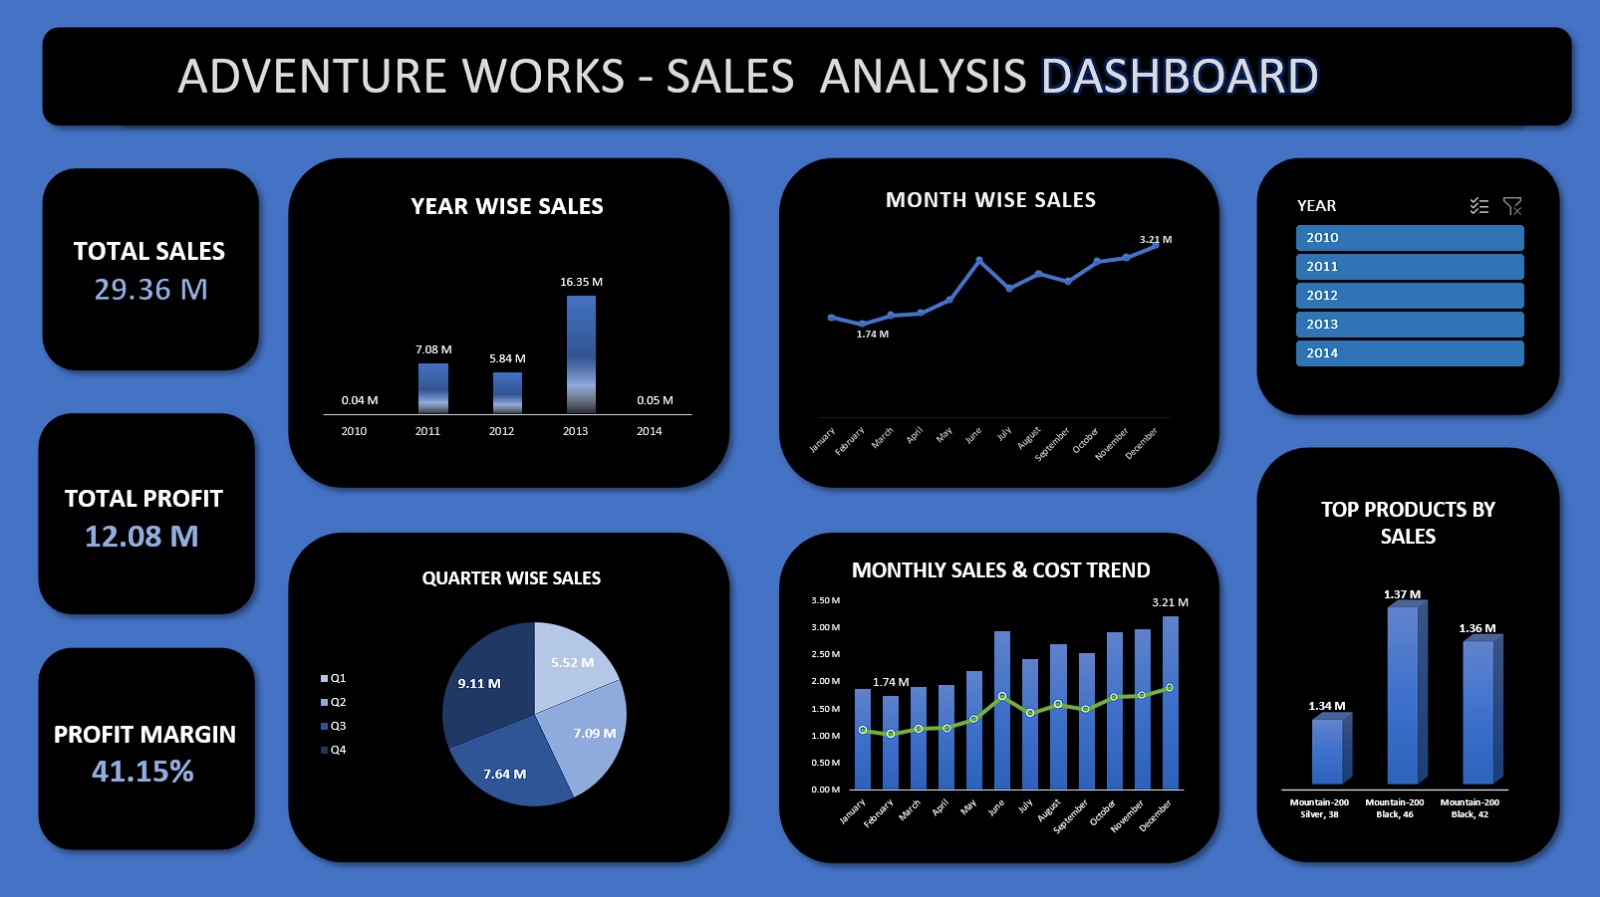

The dashboard page shown, as its layout file describes it:
{"tool":"tableau","page":{"name":"Dashboard 1","canvas":[1000,1000],"units":"permille","ordinal":0},"visuals":[{"type":"title","box":[4.8,8.7,990.3,83.6]},{"type":"image","param":"Image/ChatGPT Image Dec 29, 2025, 03_20_57 PM.png","box":[135.2,15.2,69.4,68.4]},{"type":"worksheet","title":"KPI-1","mark":"Text","box":[4.8,92.3,136.2,137.9]},{"type":"worksheet","title":"Yearwise Sales","mark":"Bar","rows":["Calculation_0649008227635200"],"cols":["Calculation_1408771295559681"],"box":[141.1,92.3,298,482.7]},{"type":"worksheet","title":"Top Customers","mark":"Automatic","rows":["Customer Full Name"],"box":[439.1,92.3,257.2,482.7]},{"type":"worksheet","title":"Monthly sales & Cost trend","mark":"Automatic","rows":["Calculation_1408771295559681","Calculation_0649008234512395"],"cols":["Calculation_0649008227635200"],"box":[696.3,92.3,298.9,899]},{"type":"worksheet","title":"KPI-2","mark":"Automatic","rows":["Calculation_1408771295559681"],"cols":["Calculation_0649008229273603"],"box":[4.8,230.2,136.2,88.6]},{"type":"worksheet","title":"KPI-3","mark":"Text","box":[4.8,318.8,136.2,154.2]},{"type":"filter","title":"Yearwise Sales","param":"[federated.039j6q5122f1bs16p8skw0r28obf].[none:SalesTerritoryGroup:nk]","box":[4.8,473,136.2,171.6]},{"type":"worksheet","title":"Monthwise Sales","mark":"Line","rows":["Calculation_1408771295559681"],"cols":["Calculation_0649008229273603"],"box":[141.1,575,298,416.3]},{"type":"worksheet","title":"Quarter Wise","mark":"Pie","box":[439.1,575,257.2,416.3]},{"type":"filter","title":"Top Customers","param":"[federated.039j6q5122f1bs16p8skw0r28obf].[yr:Calculation_0649008227635200:ok]","box":[4.8,644.5,136.2,200.9]},{"type":"parameter","param":"[Parameters].[Parameter 1]","box":[4.8,845.4,136.2,145.9]}]}

Visuals, with their boxes on the dashboard's canvas, which has no fixed pixel size, in thousandths of its width and height (x1, y1, x2, y2). These are canvas units, not pixel positions in the 1600x897 screenshot, which may show the page scaled, cropped or inside an application window:
title: box(5, 9, 995, 92)
image: box(135, 15, 205, 84)
"KPI-1" worksheet (Text marks): box(5, 92, 141, 230)
"Yearwise Sales" worksheet (Bar marks): box(141, 92, 439, 575)
"Top Customers" worksheet: box(439, 92, 696, 575)
"Monthly sales & Cost trend" worksheet: box(696, 92, 995, 991)
"KPI-2" worksheet: box(5, 230, 141, 319)
"KPI-3" worksheet (Text marks): box(5, 319, 141, 473)
"Yearwise Sales" filter: box(5, 473, 141, 645)
"Monthwise Sales" worksheet (Line marks): box(141, 575, 439, 991)
"Quarter Wise" worksheet (Pie marks): box(439, 575, 696, 991)
"Top Customers" filter: box(5, 644, 141, 845)
parameter: box(5, 845, 141, 991)
